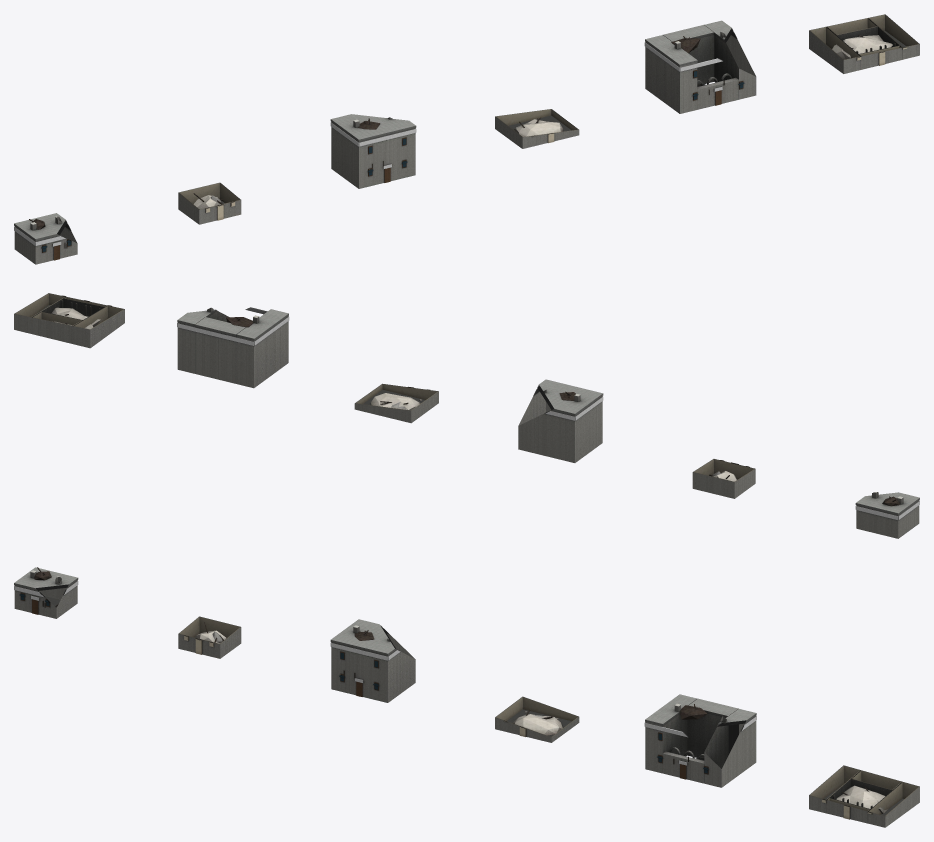
The model's file is modern-maghreb-houses-damage.glb.
The picture shows the model from 3 angles, top to bottom: view 1: azimuth 30°, elevation 25°; view 2: azimuth 150°, elevation 25°; view 3: azimuth 330°, elevation 25°; orthographic projection.
Visible parts, largest first — view 1: LOD0.004, LOD0.002, LOD0.005, LOD0, LOD0.003, LOD0.001; view 2: LOD0.004, LOD0.002, LOD0.005, LOD0, LOD0.003, LOD0.001; view 3: LOD0.004, LOD0.002, LOD0.005, LOD0, LOD0.003, LOD0.001.
Part boxes in pixels (bbox=[...]): LOD0.004: bbox=[644, 20, 756, 113]; LOD0.002: bbox=[330, 114, 416, 188]; LOD0.005: bbox=[809, 14, 919, 73]; LOD0: bbox=[14, 213, 77, 264]; LOD0.003: bbox=[495, 109, 579, 148]; LOD0.001: bbox=[178, 182, 241, 224]; LOD0.004: bbox=[177, 307, 289, 388]; LOD0.002: bbox=[518, 379, 603, 462]; LOD0.005: bbox=[14, 293, 124, 348]; LOD0: bbox=[855, 492, 919, 538]; LOD0.003: bbox=[354, 383, 438, 423]; LOD0.001: bbox=[692, 459, 755, 498]; LOD0.004: bbox=[644, 694, 756, 787]; LOD0.002: bbox=[330, 619, 415, 702]; LOD0.005: bbox=[809, 765, 919, 827]; LOD0: bbox=[14, 567, 78, 618]; LOD0.003: bbox=[495, 696, 579, 742]; LOD0.001: bbox=[178, 616, 241, 658].
Size of what is drawn, in the model's own units: 16.1 by 0.9725 by 1.13.
Materials: 2 (2 with a texture image).
